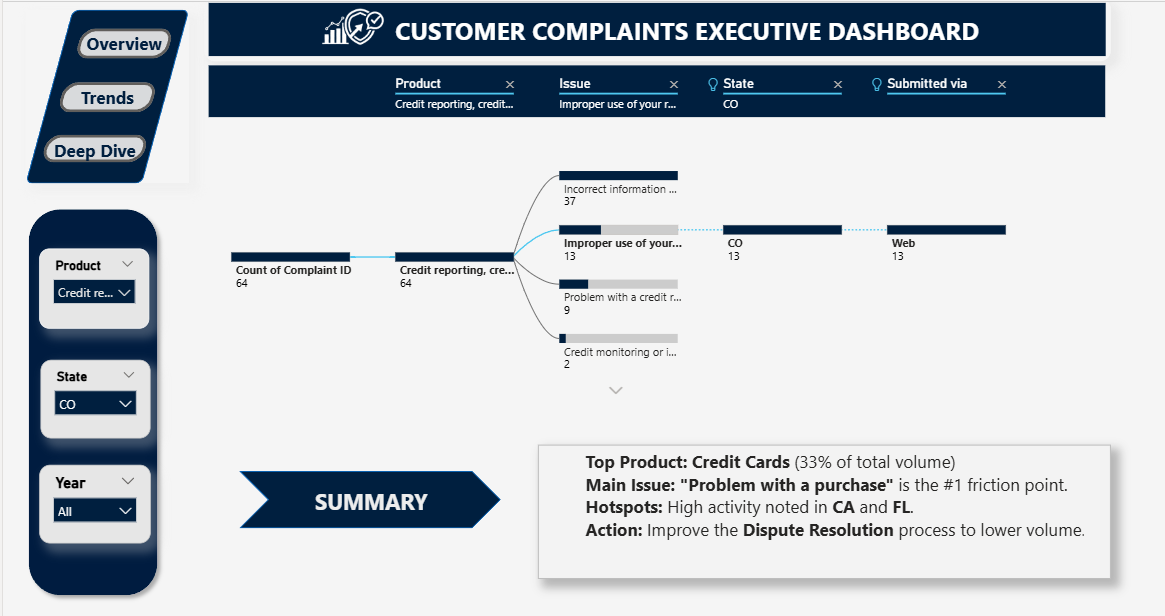

What the dashboard file says about the page in this screenshot:
{"tool":"powerbi","page":{"name":"Deep Dive","canvas":[1280,720],"ordinal":2},"visuals":[{"type":"shape","box":[220.9,41.2,994.9,68.6],"z":0},{"type":"textbox","box":[78.2,53.5,1125.2,79.6],"z":1000},{"type":"actionButton","box":[0,0,100,40],"z":2000},{"type":"decompositionTreeVisual","fields":{"ExplainBy":["Dim_Product.Product","Fact_Complaints.Issue","Dim_Geography.State","Fact_Complaints.Submitted via"],"Analyze":["CountNonNull(Fact_Complaints.Complaint ID)"]},"box":[221.4,110,994.3,408.6],"z":3000},{"type":"textbox","box":[587.3,531,628.5,146.8],"z":4000},{"type":"shape","box":[260,560,287.1,62.9],"z":5000},{"type":"textbox","box":[312.9,572.9,182.9,62.9],"z":6000},{"type":"shape","box":[24.7,53.5,179.8,190.7],"z":7000},{"type":"actionButton","box":[78.2,74.1,109.8,32.9],"z":8000},{"type":"actionButton","box":[41.2,190.7,119.4,30.2],"z":9000},{"type":"actionButton","box":[59,133.1,111.1,32.9],"z":10000},{"type":"shape","box":[19.2,263.5,159.2,441.9],"z":11000},{"type":"slicer","fields":{"Values":["Dim_Product.Product"]},"box":[39.8,315.6,120.8,87.8],"z":12000},{"type":"slicer","fields":{"Values":["Dim_Geography.State"]},"box":[41.2,437.7,120.8,86.4],"z":13000},{"type":"slicer","fields":{"Values":["Dim_Date.Year"]},"box":[39.8,553,122.1,86.4],"z":14000},{"type":"image","box":[262.1,49.4,237.4,50.8],"z":15000}]}

Visuals, with their boxes on the page's 1280x720 design canvas (x1, y1, x2, y2). These are canvas units, not pixel positions in the 1165x616 screenshot, which may show the page scaled, cropped or inside an application window:
shape: 221,41,1216,110
textbox: 78,54,1203,133
actionButton: 0,0,100,40
decompositionTreeVisual - Dim_Product.Product x Fact_Complaints.Issue: 221,110,1216,519
textbox: 587,531,1216,678
shape: 260,560,547,623
textbox: 313,573,496,636
shape: 25,54,204,244
actionButton: 78,74,188,107
actionButton: 41,191,161,221
actionButton: 59,133,170,166
shape: 19,264,178,705
slicer - Dim_Product.Product: 40,316,161,403
slicer - Dim_Geography.State: 41,438,162,524
slicer - Dim_Date.Year: 40,553,162,639
image: 262,49,500,100
